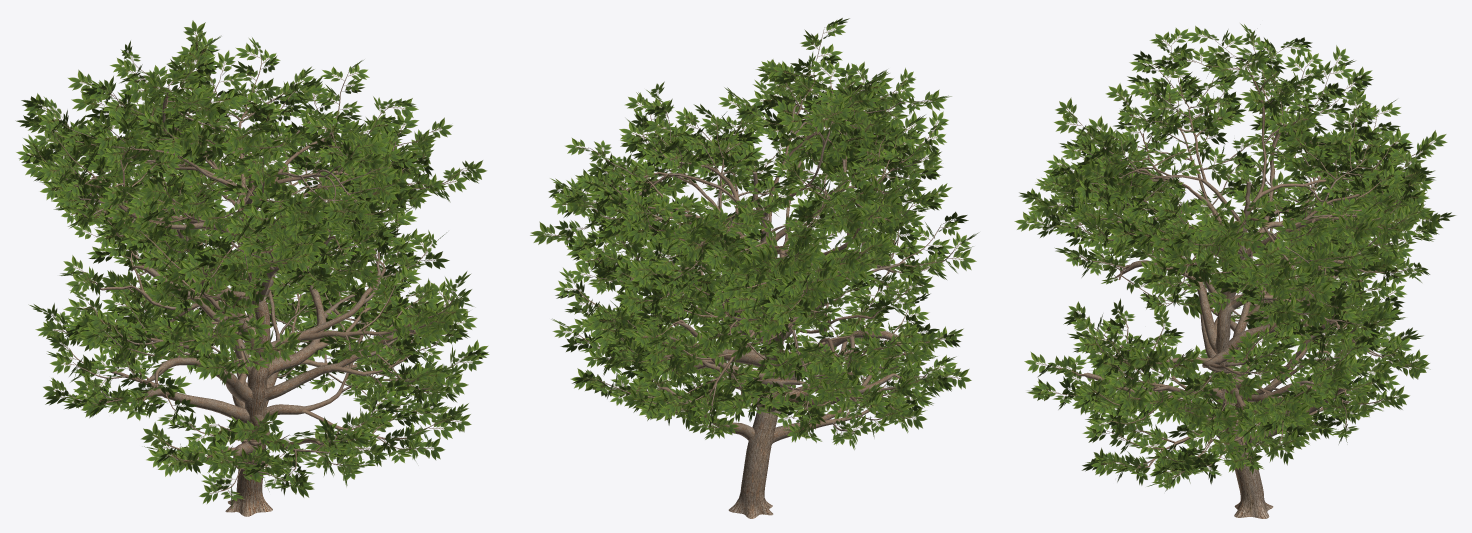
The model's file is Cubilia_cubili.glb.
The picture shows the model from 3 angles, left to right: view 1: azimuth 30°, elevation 25°; view 2: azimuth 150°, elevation 25°; view 3: azimuth 270°, elevation 25°; orthographic projection. The views are drawn at different scales.
Visible parts, largest first — view 1: Cryptocarya_ampla; view 2: Cryptocarya_ampla; view 3: Cryptocarya_ampla.
Boxes of the visible parts, x1,y1,x2,y2 form: Cryptocarya_ampla: [16, 20, 489, 516]; Cryptocarya_ampla: [530, 18, 978, 518]; Cryptocarya_ampla: [1014, 23, 1455, 518].
Size of the model in its own units: 13.32 by 14.79 by 13.4.
Materials: 2 (2 with a texture image).
